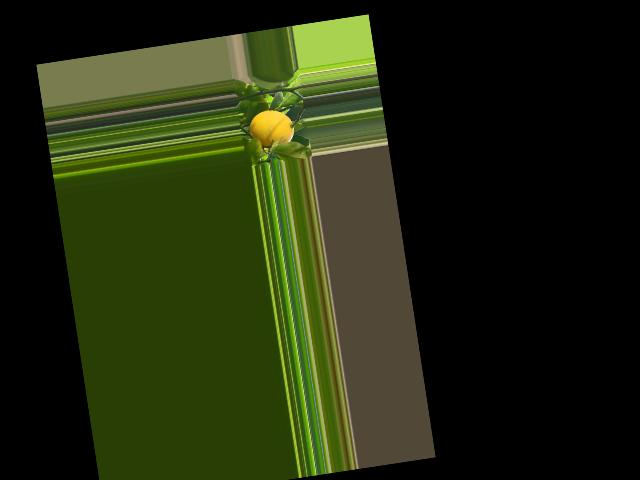lemon: (248, 103, 300, 155)
